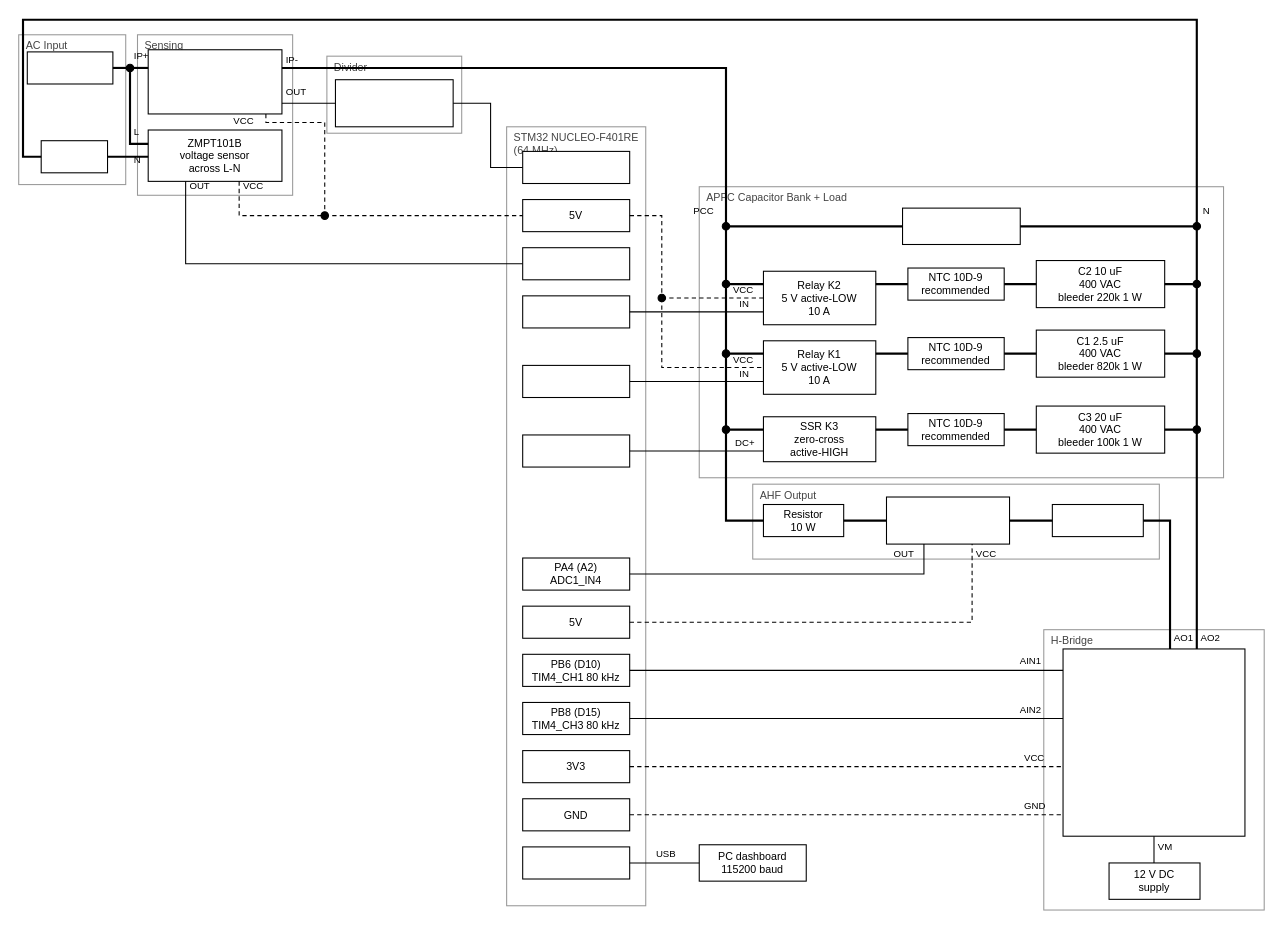
The diagram is 1283 pixels wide and 929 high, and some of its shapes have lost their labels. Each missing label, with the centre of its shape:
"10k series 20k to GND ratio 0.667" goes at point (393, 103).
"ACS712-05B AHF current" goes at point (947, 520).
"ACS712-05B grid current series in L" goes at point (214, 81).
"Inductor 10 mH" goes at point (1097, 520).
"Load charger / laptop / fan" goes at point (960, 225).
"Mains L 230 V 50 Hz" goes at point (69, 67).
"Mains N" goes at point (74, 156).
"PA0 (A0) ADC1_IN0" goes at point (576, 167).
"PA1 (A1) ADC1_IN1" goes at point (576, 263).
"PA2 / PA3 USART2 (USB)" goes at point (576, 862).
"PB0 open-drain" goes at point (576, 381).
"PB1 open-drain" goes at point (576, 311).
"PB2 push-pull" goes at point (576, 450).
"TB6612FNG VCC 3.3 V VM 12 V STBY, PWMA = HIGH" goes at point (1153, 742).
